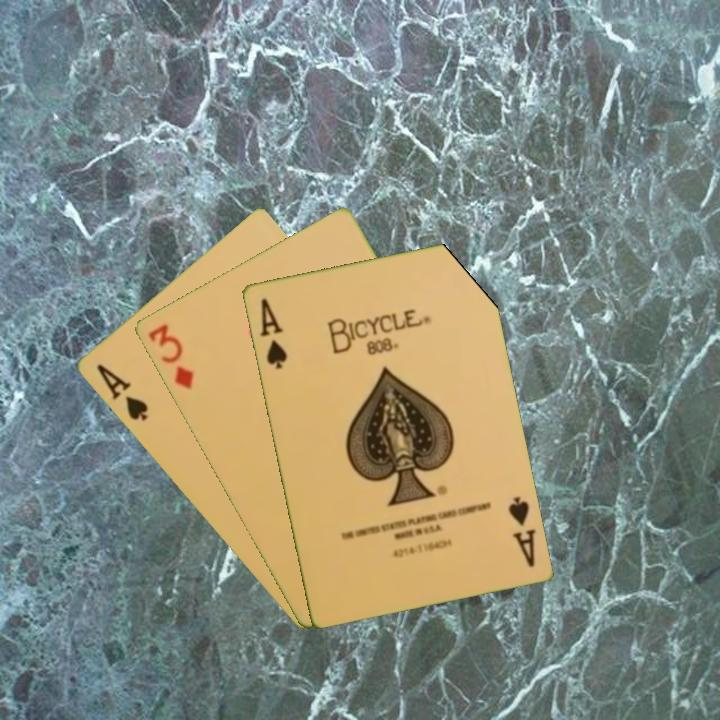3d: (143, 320, 197, 393)
As: (92, 360, 151, 424), (256, 294, 290, 372), (504, 492, 538, 570)
